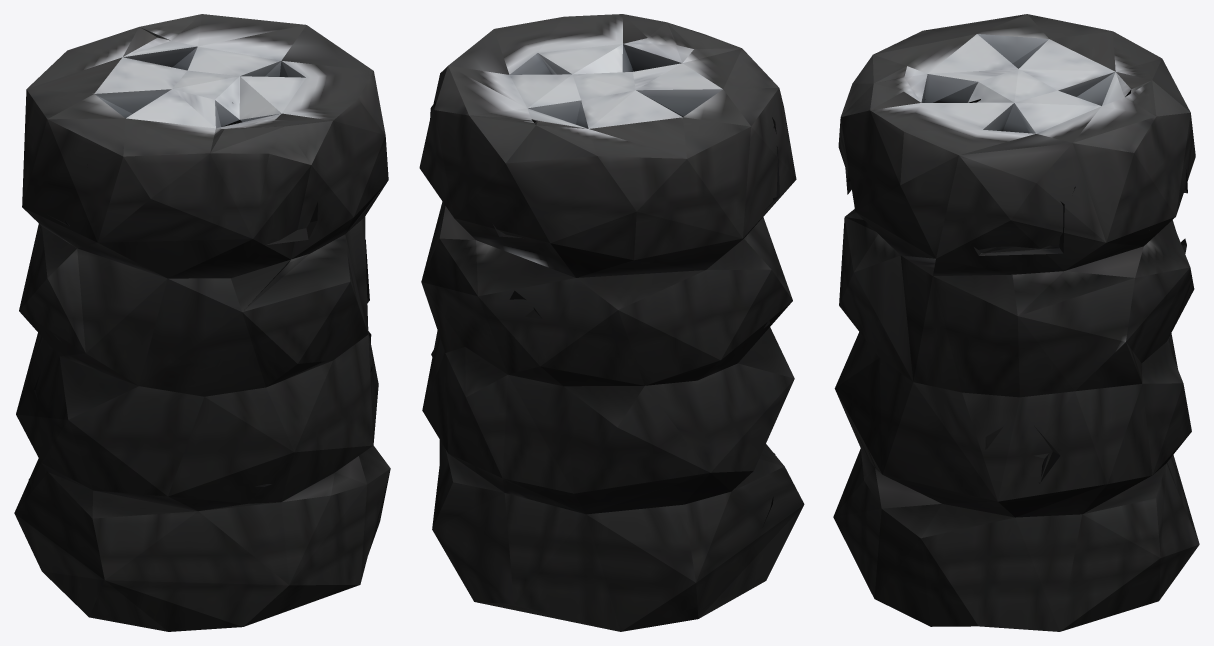
The model's file is tire_stack.glb.
3 views of the same model, side by side, from view 1: azimuth 30°, elevation 25°; view 2: azimuth 150°, elevation 25°; view 3: azimuth 270°, elevation 25° (orthographic).
Parts seen in each view (by area): view 1: geometry_0; view 2: geometry_0; view 3: geometry_0.
Part boxes in pixels (<box>): geometry_0: <box>14,14,390,631</box>; geometry_0: <box>419,14,804,631</box>; geometry_0: <box>833,14,1199,631</box>.
Bounding box in the file's own units: 0.6961 × 0.9938 × 0.6697.
1 material, 1 textured.
